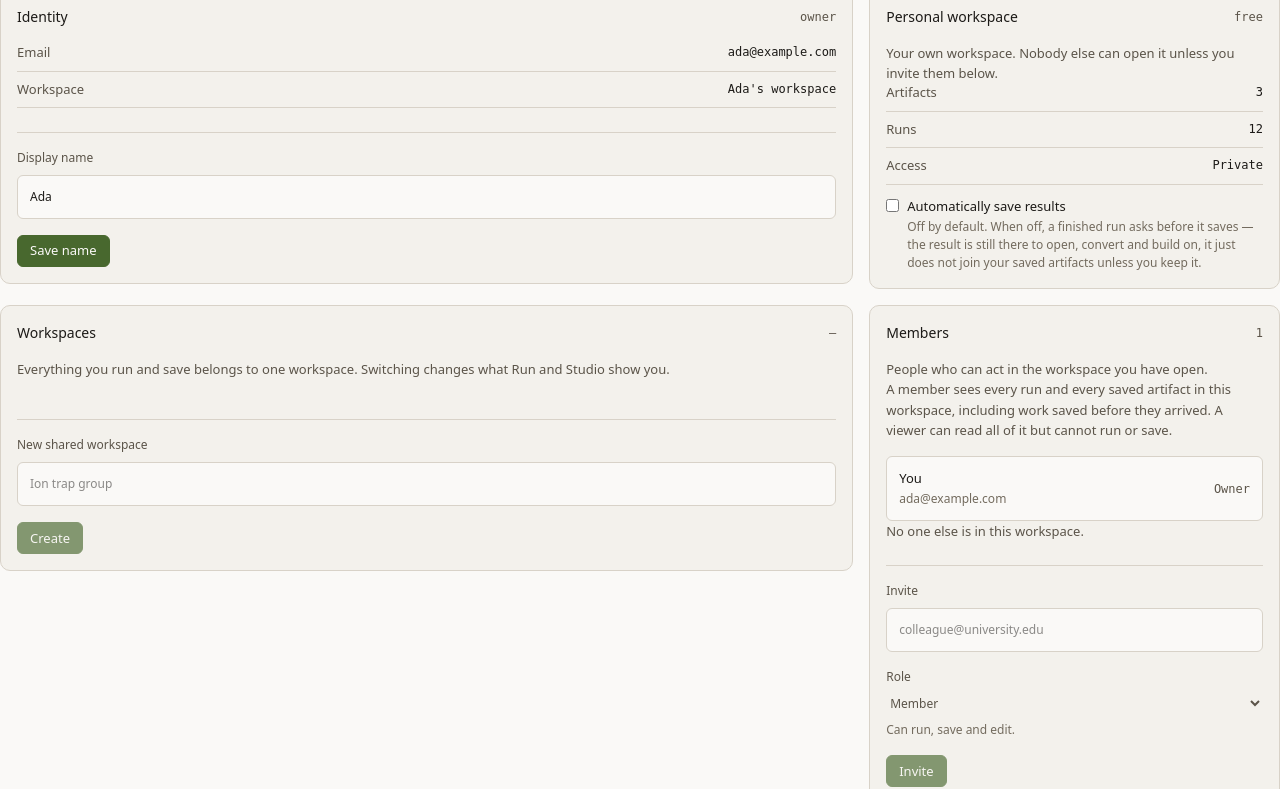
account settings: saving the display name PATCHes /api/me with the typed value
Expected: the form with class "mj-account-profile-form" showing "Display name Save name" is shown, [17, 132, 836, 267]
Replace the text in the field labelled "Display name" with "Ada Lovelace" at [427, 197], box [17, 175, 836, 219]
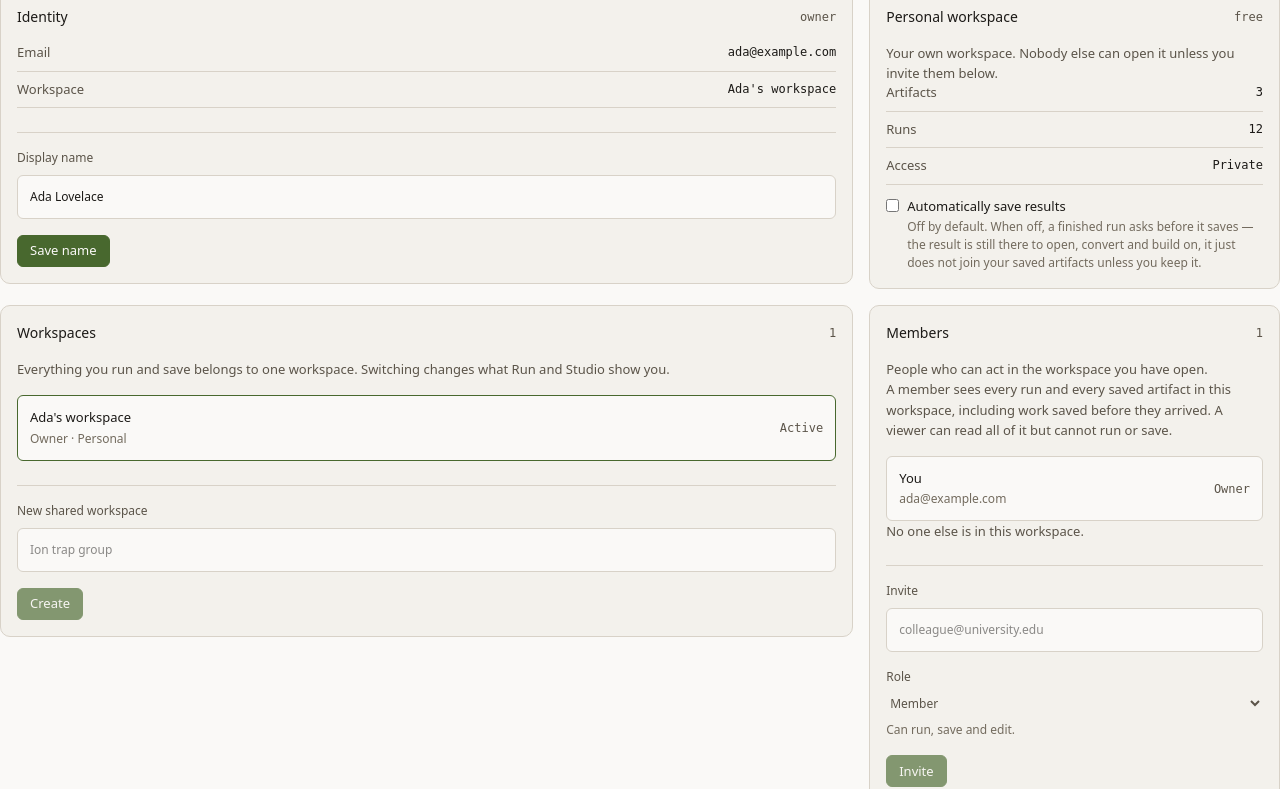
Submit the form with class "mj-account-profile-form" showing "Display name Save name", box [17, 132, 836, 267]
(page scrolled)
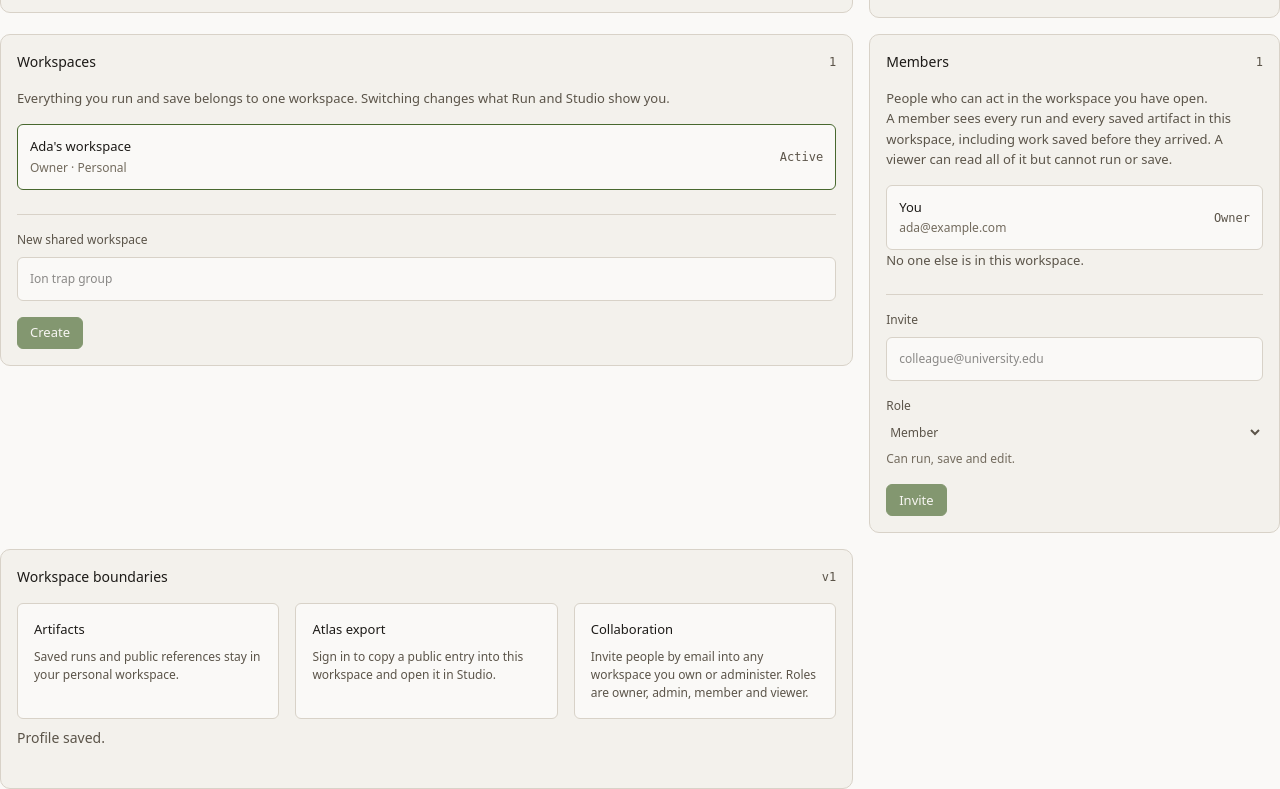
Expected: the message reads "Profile saved.", [17, 728, 105, 747]
